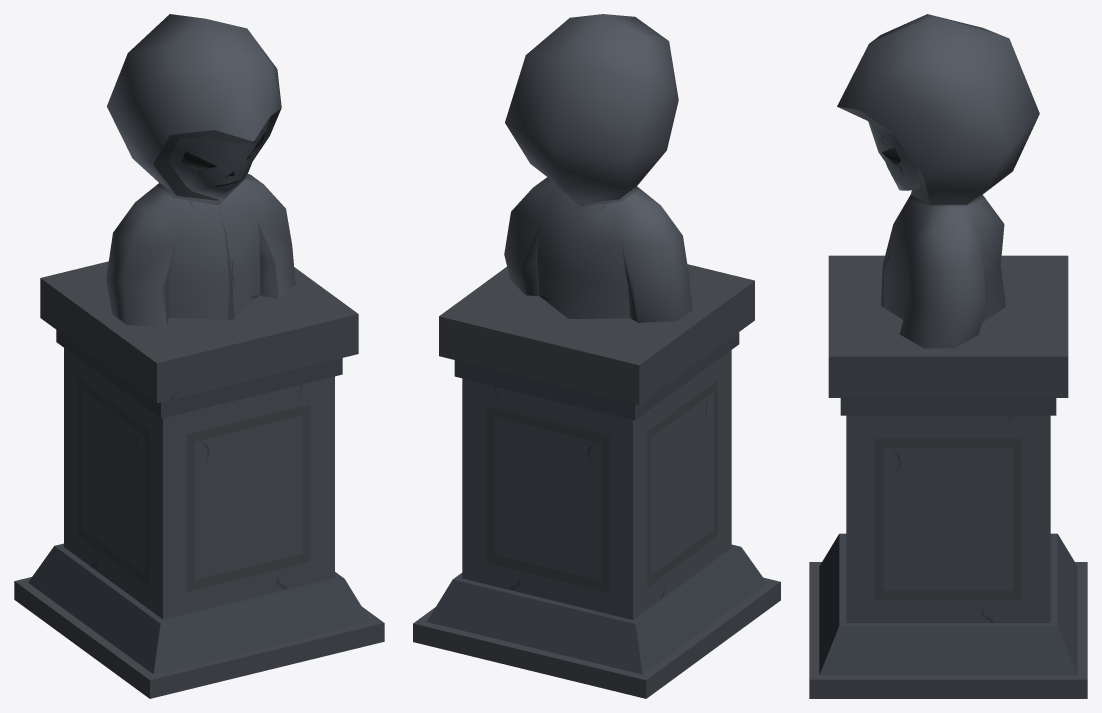
Rendered from Pillar Statue 01.fbx.
The picture shows the model from 3 angles, left to right: view 1: azimuth 30°, elevation 25°; view 2: azimuth 150°, elevation 25°; view 3: azimuth 270°, elevation 25°; orthographic projection. The views are drawn at different scales.
Parts seen in each view (by area): view 1: Pillar_Statue_01; view 2: Pillar_Statue_01; view 3: Pillar_Statue_01.
Part boxes in pixels (x1=…): Pillar_Statue_01: x1=14, y1=14, x2=384, y2=698; Pillar_Statue_01: x1=413, y1=14, x2=780, y2=698; Pillar_Statue_01: x1=809, y1=14, x2=1087, y2=698.
Bounding box in the file's own units: 96 × 237 × 96.
